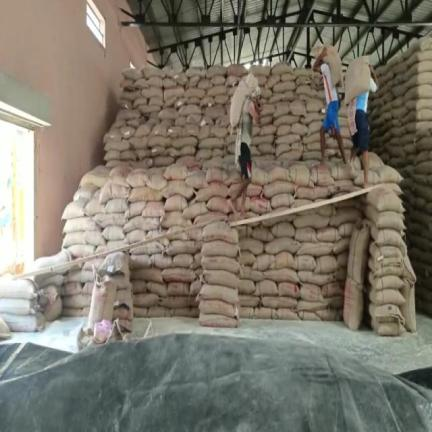Zone-Counting: (344, 56, 377, 186), (230, 74, 260, 209), (313, 45, 346, 163)
